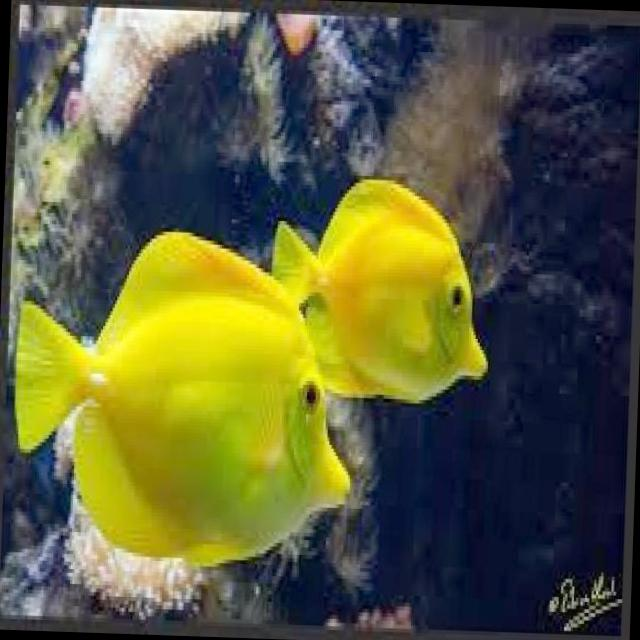TangFish: (5, 224, 361, 566), (256, 168, 498, 406)
